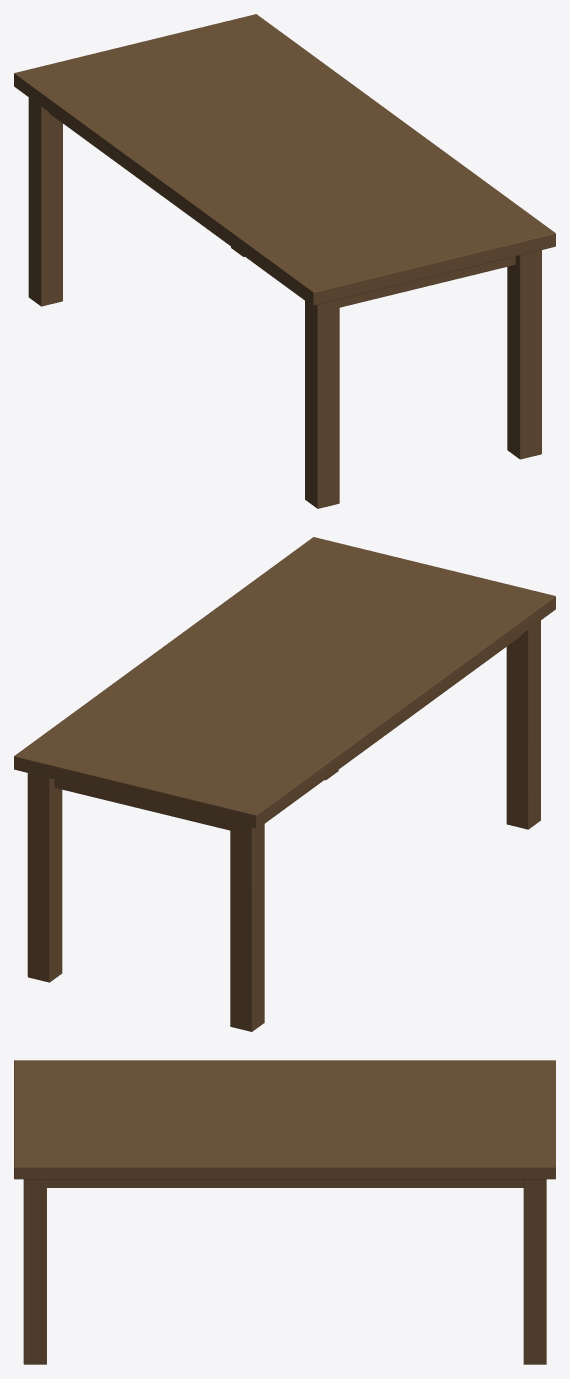
The model's file is SM_Table_001.fbx.
3 renders of one model, top to bottom at view 1: azimuth 30°, elevation 25°; view 2: azimuth 150°, elevation 25°; view 3: azimuth 270°, elevation 25°, orthographic. The views are drawn at different scales.
Parts seen in each view (by area): view 1: pCube74; view 2: pCube74; view 3: pCube74.
Part boxes in pixels (x1,y1,x2,y2): pCube74: (14, 14, 555, 508); pCube74: (14, 537, 555, 1031); pCube74: (14, 1060, 555, 1364).
Size of the model in its own units: 87.33 by 76.69 by 187.
